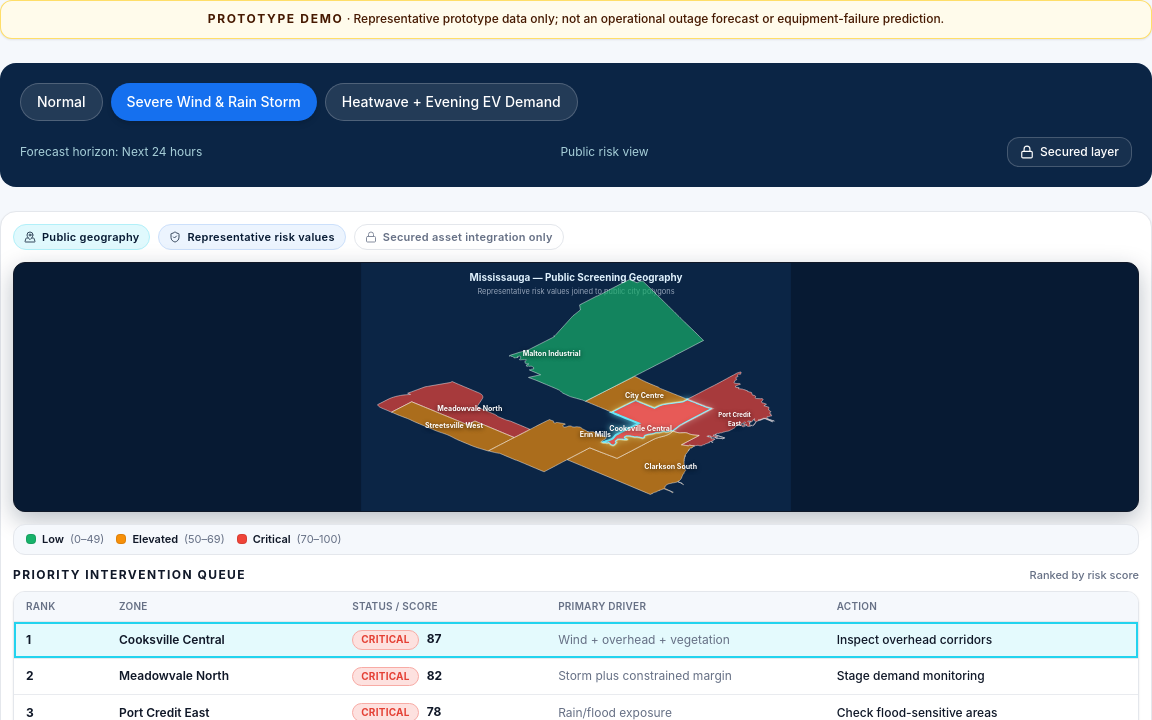
Test case: OperationsWorkspace › opens secured utility layer modal without asset data
This screenshot has width=1152, height=720.
Click the button "Secured layer".
click(1069, 152)  # box [1007,136,1132,166]
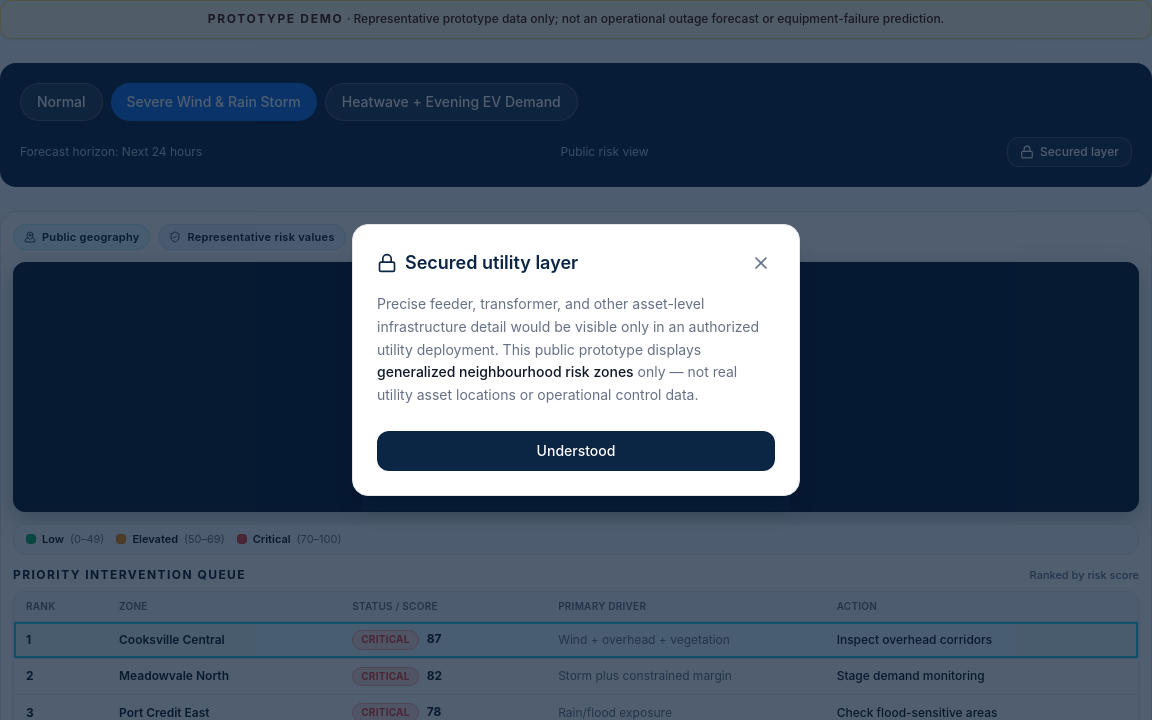
Now the dialog shows "generalized neighbourhood risk zones", box [377,363,634,380]
